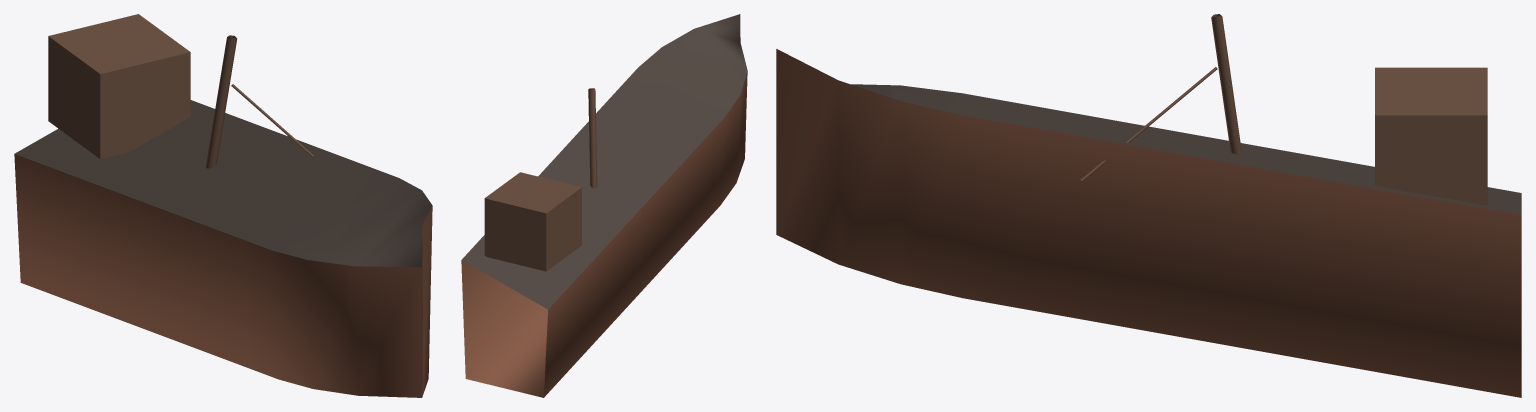
File: wreck.glb
3 views of the same model, side by side, from view 1: azimuth 30°, elevation 25°; view 2: azimuth 150°, elevation 25°; view 3: azimuth 270°, elevation 25° (orthographic). The views are drawn at different scales.
Visible parts, largest first — view 1: Wreck; view 2: Wreck; view 3: Wreck.
Part boxes in pixels (<box>): Wreck: <box>14,14,432,397</box>; Wreck: <box>461,14,747,397</box>; Wreck: <box>776,14,1521,397</box>.
Bounding box in the file's own units: 15.14 × 35.07 × 66.
